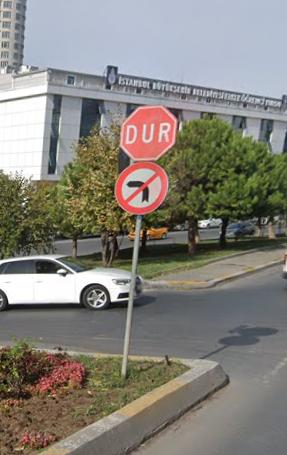leftturnsareforbidden: (116, 164, 167, 213)
stop: (122, 107, 178, 160)
